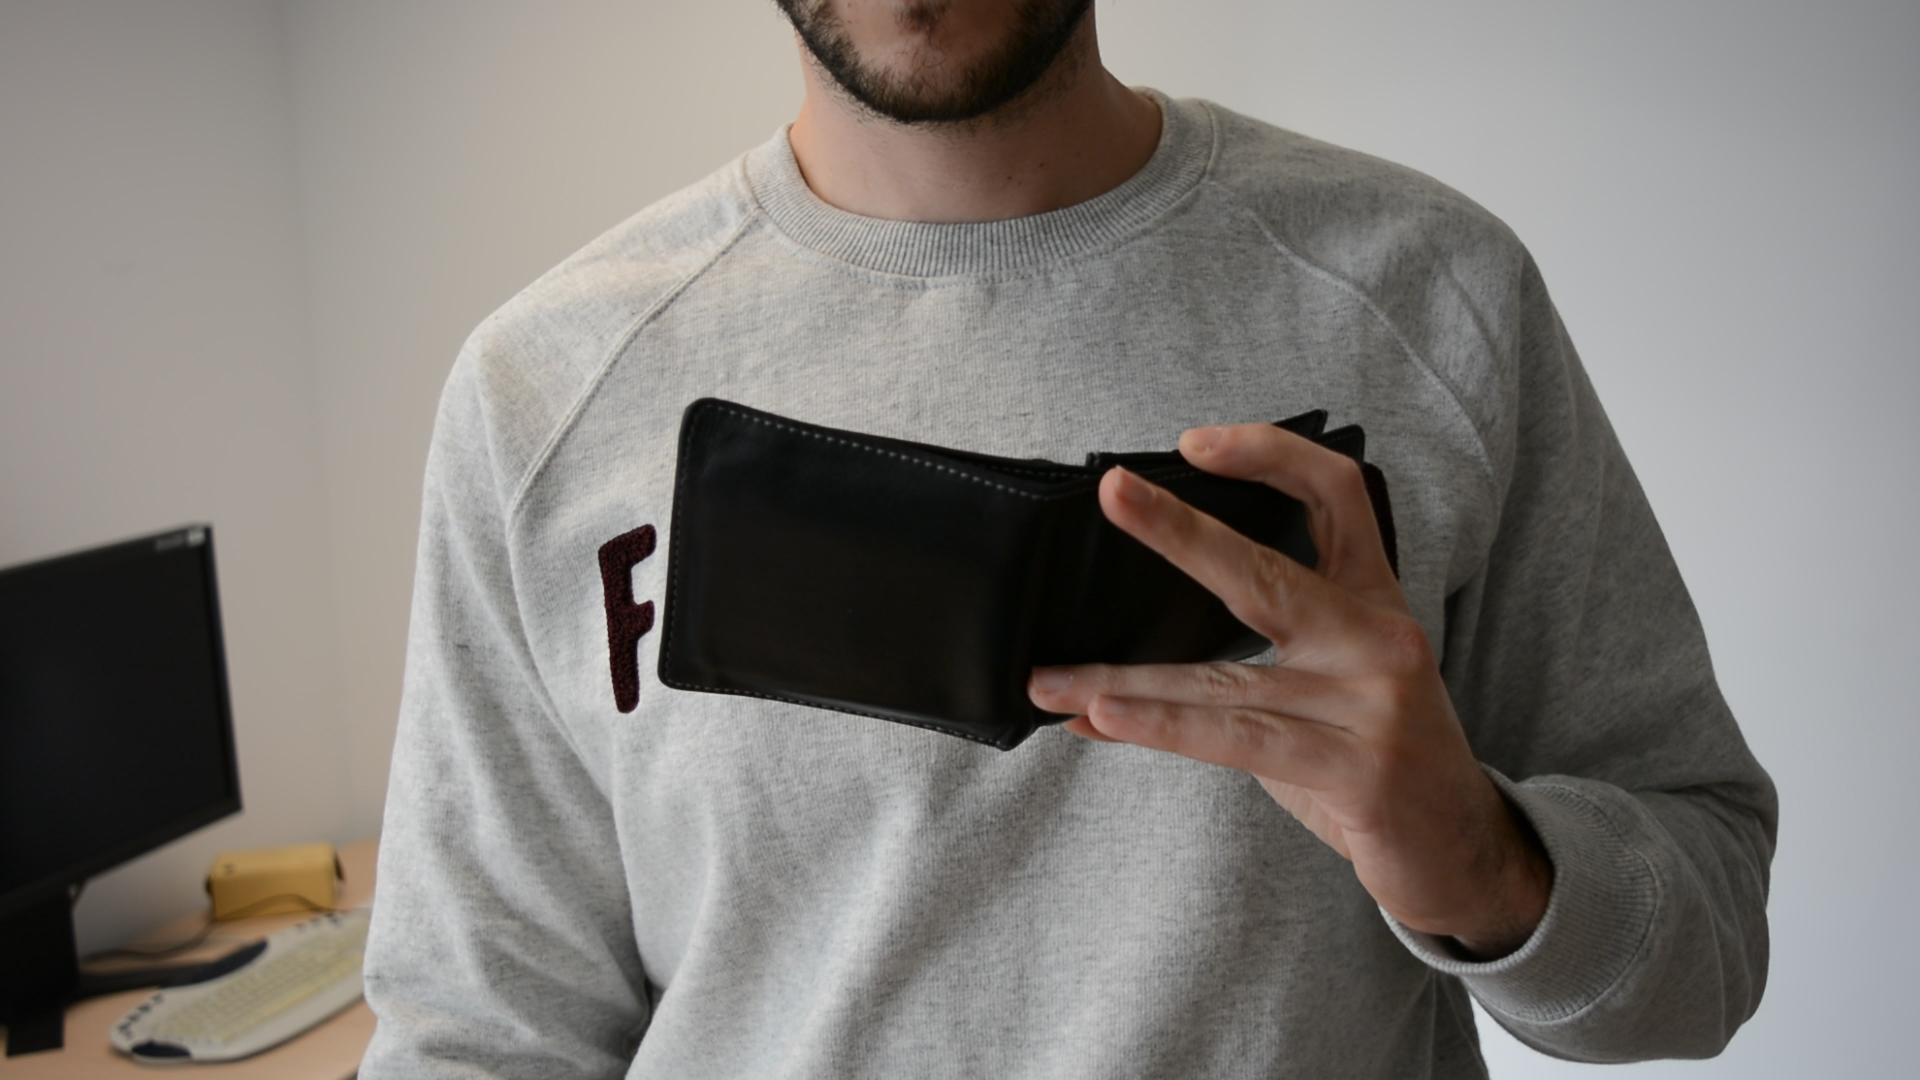monedero: (655, 394, 1404, 754)
